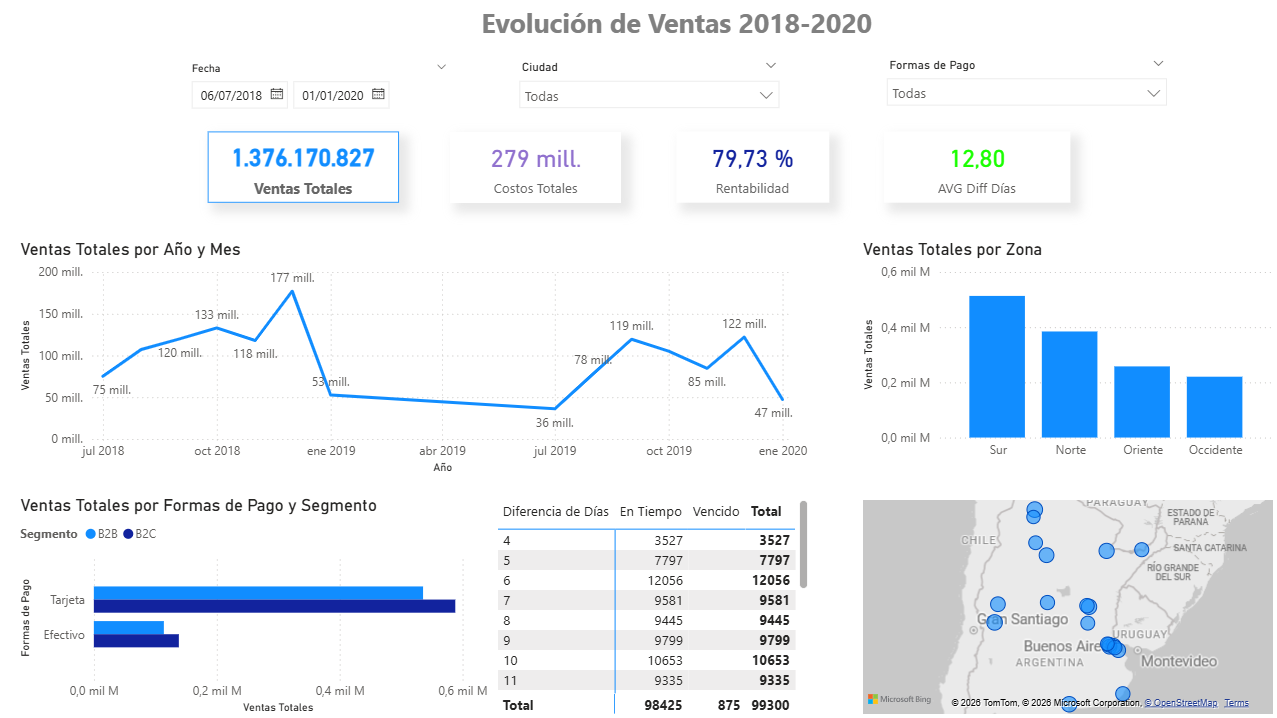

The page's visual inventory and layout, read from the dashboard file:
{"tool":"powerbi","page":{"name":"Ventas","canvas":[1280,720],"ordinal":2},"visuals":[{"type":"slicer","fields":{"Values":["Calendario.Fecha"]},"box":[180,57.5,280,60],"z":0},{"type":"slicer","fields":{"Values":["Territorio.Ciudad"]},"box":[510,56.2,280,73.8],"z":1000},{"type":"slicer","fields":{"Values":["Metodos de Pago.Formas de Pago"]},"box":[877.5,53.8,300,63.8],"z":2000},{"type":"card","fields":{"Values":["Medidas.AVG Diff Días"]},"box":[885,132.3,186.2,71.2],"z":3000},{"type":"lineChart","fields":{"Y":["Medidas.Ventas Totales"],"Category":["Calendario.Fecha.Variación.Jerarquía de fechas.Año","Calendario.Fecha.Variación.Jerarquía de fechas.Mes"]},"box":[16.2,240,797.5,240],"z":4000},{"type":"columnChart","fields":{"Y":["Medidas.Ventas Totales"],"Category":["Vendedor.Zona"]},"box":[858.8,240,421.2,228.8],"z":5000},{"type":"clusteredBarChart","fields":{"Category":["Metodos de Pago.Formas de Pago"],"Series":["Vendedor.Segmento"],"Y":["Medidas.Ventas Totales"]},"box":[16.2,496.2,477.5,223.8],"z":6000},{"type":"pivotTable","fields":{"Values":["Medidas.Cant Unidades Vendidas"],"Rows":["Ventas.Diferencia de Días"],"Columns":["Ventas.Categoría"]},"box":[493.8,496.2,320,223.8],"z":7000},{"type":"map","fields":{"Y":["Territorio.Latitud"],"X":["Territorio.Longitud"],"Size":["Medidas.Ventas Totales"]},"box":[858.8,496.2,421.2,223.8],"z":8000},{"type":"textbox","box":[380,0,595,53.8],"z":9000},{"type":"card","fields":{"Values":["Medidas.Ventas Totales"]},"box":[208.8,132.5,191.2,71.2],"z":10000},{"type":"card","fields":{"Values":["Medidas.Costos Totales"]},"box":[451.2,132.3,171.2,71.2],"z":11000},{"type":"card","fields":{"Values":["Medidas.Rentabilidad"]},"box":[677.5,132.3,152.5,71.2],"z":12000}]}

Visuals, with their boxes in screenshot pixels (x1, y1, x2, y2), scaled from the page's 1280x720 canvas onto the 1277x718 screenshot:
slicer - Calendario.Fecha: box=[180, 57, 459, 117]
slicer - Territorio.Ciudad: box=[509, 56, 788, 130]
slicer - Metodos de Pago.Formas de Pago: box=[875, 54, 1175, 117]
card - Medidas.AVG Diff Días: box=[883, 132, 1069, 203]
lineChart - Medidas.Ventas Totales x Calendario.Fecha.Variación.Jerarquía de fechas.Año: box=[16, 239, 812, 479]
columnChart - Medidas.Ventas Totales x Vendedor.Zona: box=[857, 239, 1276, 467]
clusteredBarChart - Metodos de Pago.Formas de Pago x Vendedor.Segmento: box=[16, 495, 493, 717]
pivotTable - Medidas.Cant Unidades Vendidas x Ventas.Diferencia de Días: box=[493, 495, 812, 717]
map - Territorio.Latitud x Territorio.Longitud: box=[857, 495, 1276, 717]
textbox: box=[379, 0, 973, 54]
card - Medidas.Ventas Totales: box=[208, 132, 399, 203]
card - Medidas.Costos Totales: box=[450, 132, 621, 203]
card - Medidas.Rentabilidad: box=[676, 132, 828, 203]
